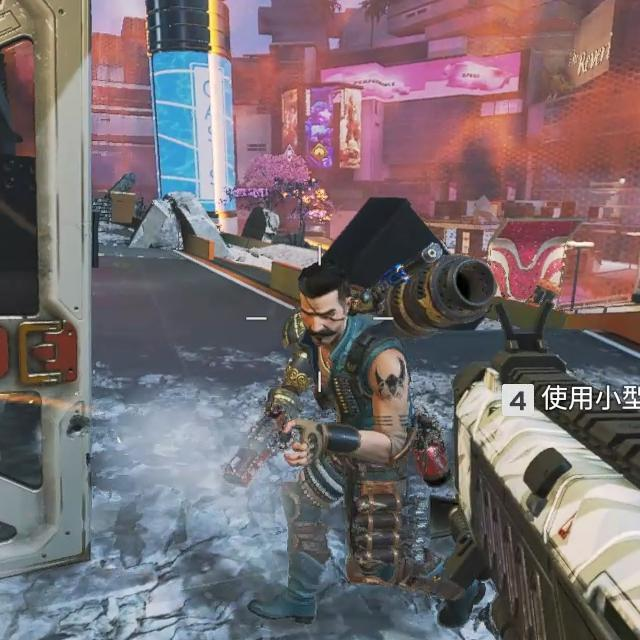avatar: (271, 266, 422, 614)
